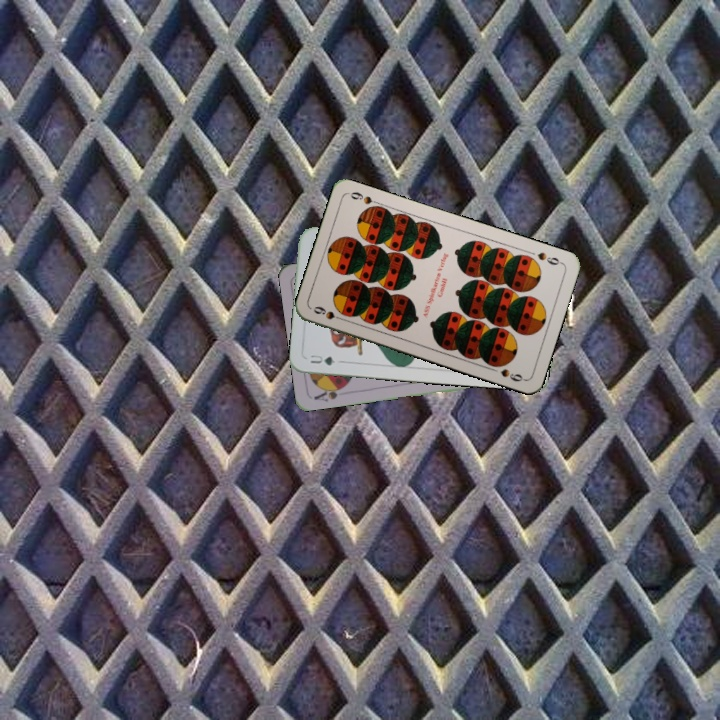GU: (306, 351, 338, 368)
S9: (310, 302, 348, 324), (533, 248, 565, 268)
SA: (310, 381, 349, 404)
